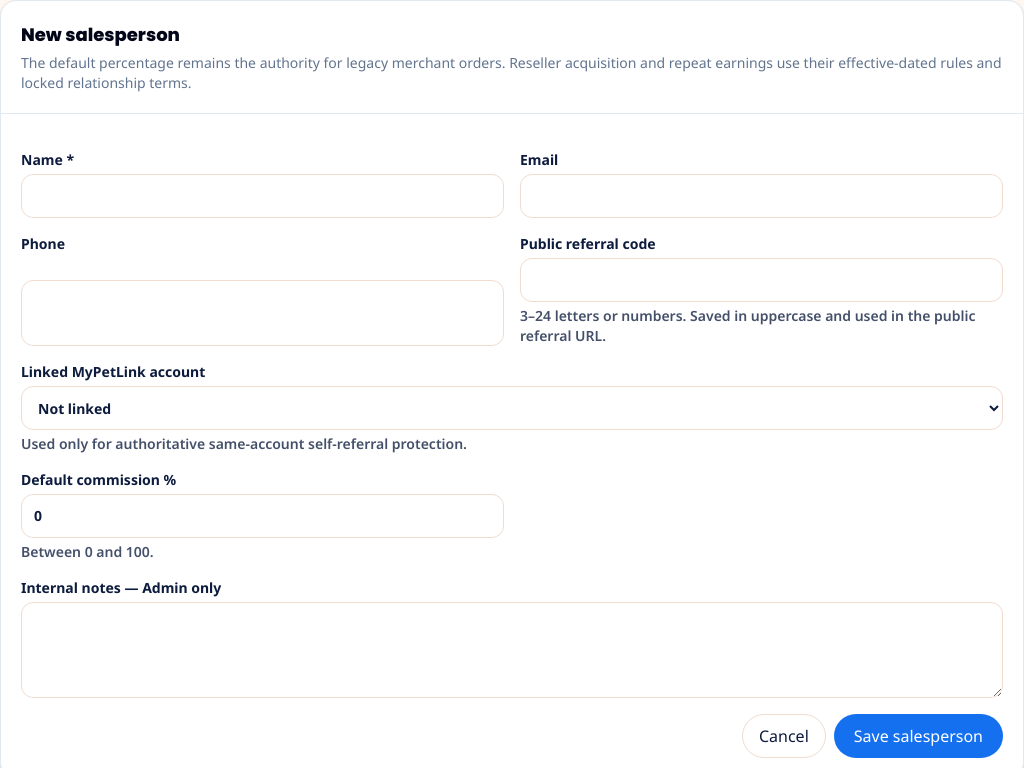
Scenario: Salesperson editor › refuses a commission below zero, and says the range
Type "Pat Lee" into the field labelled "Name *" at (262, 196), box [21, 174, 504, 218]
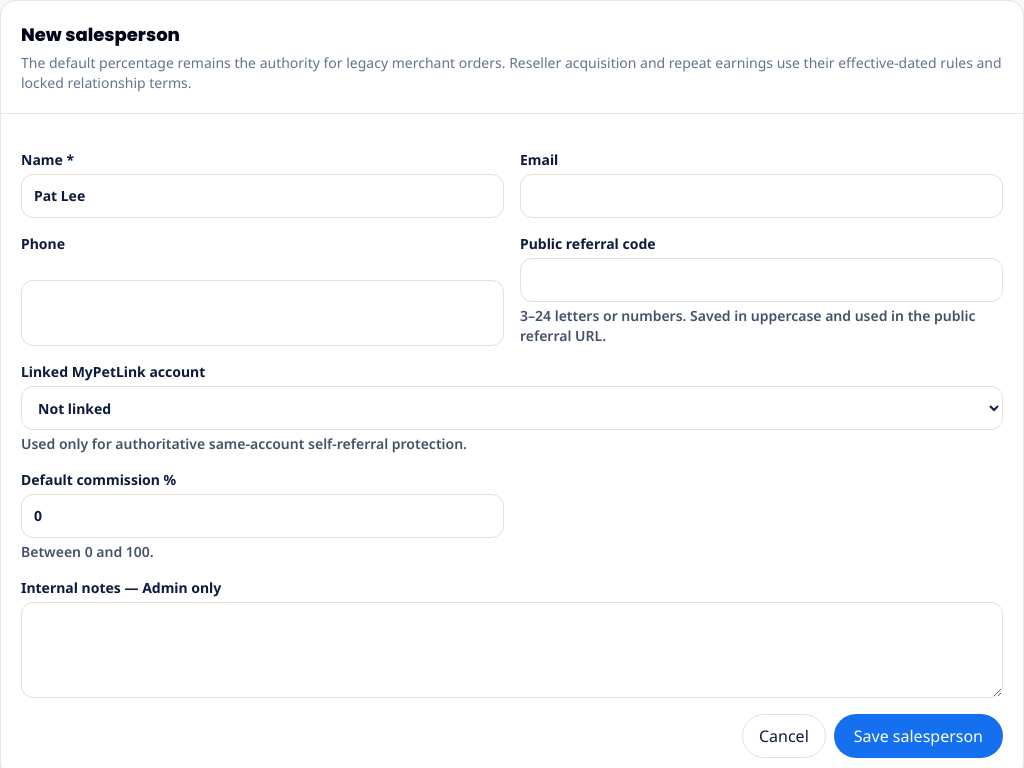
Replace the text in the number field labelled "Default commission % Between 0 and 100." with "-1" at (262, 516), box [21, 494, 504, 538]
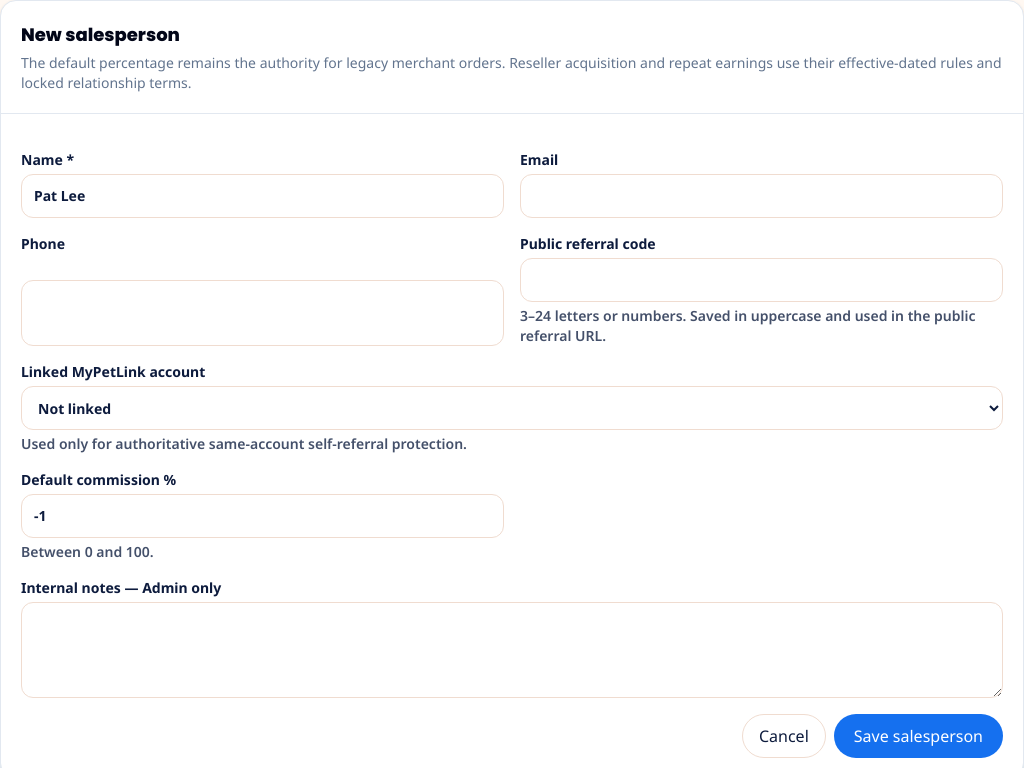
Click the button with test id "save-salesperson" at (918, 736), box [834, 714, 1003, 758]
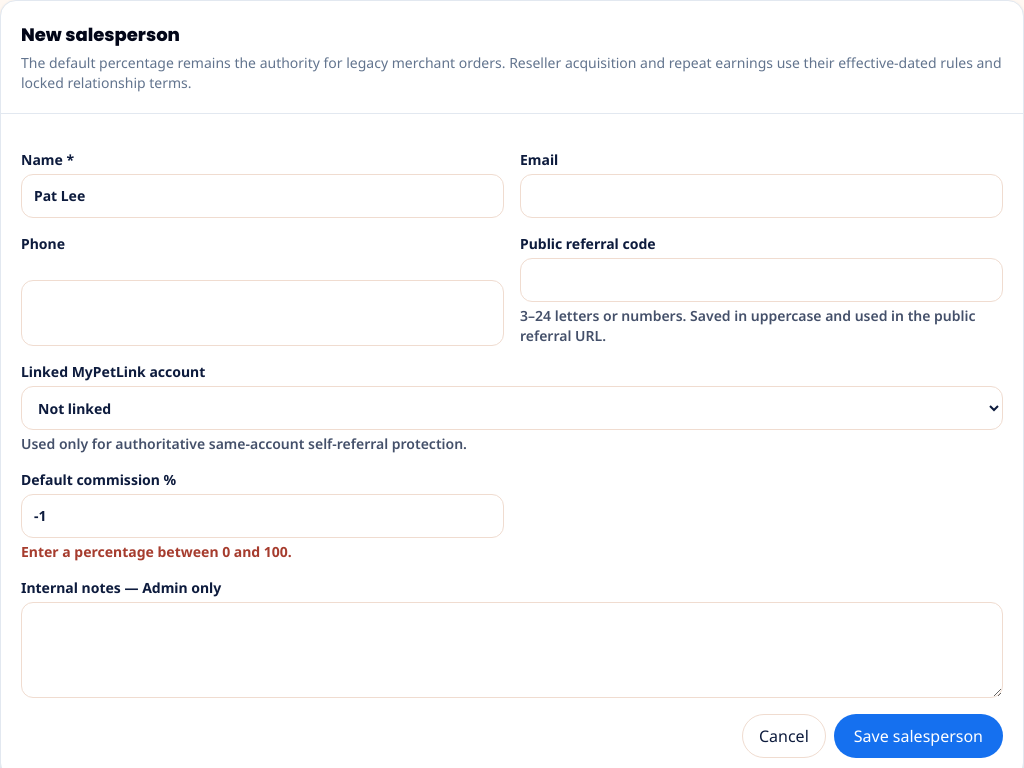
Result: the text "Enter a percentage between 0 and 100." is shown at [21, 542, 292, 561]
